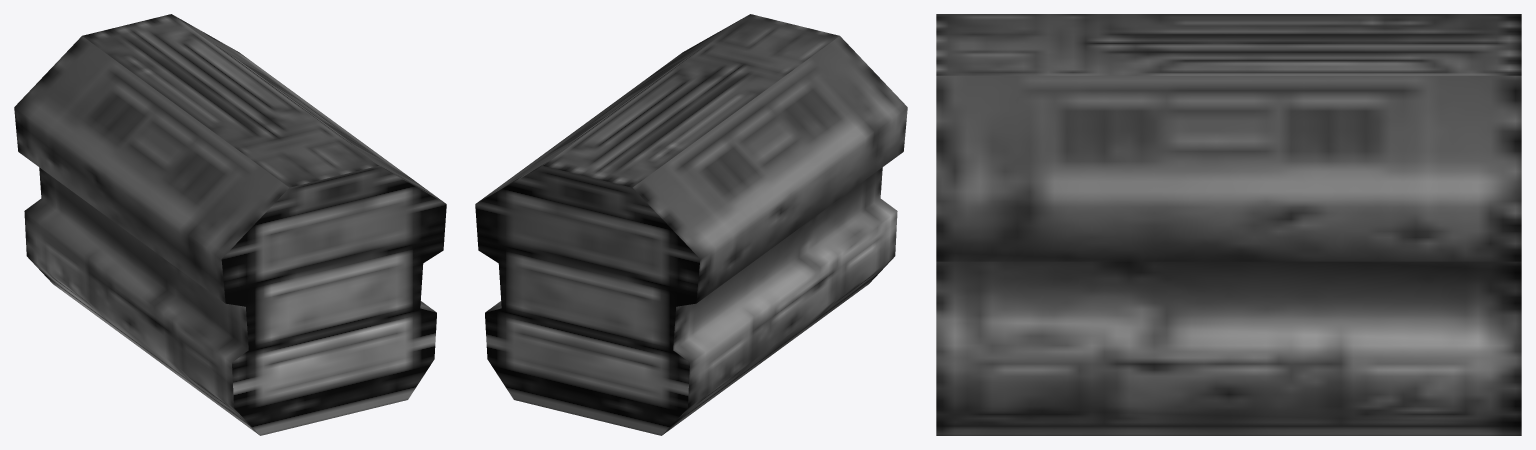
File: utl15a1.obj
3 renders of one model, left to right at view 1: azimuth 30°, elevation 25°; view 2: azimuth 150°, elevation 25°; view 3: azimuth 270°, elevation 25°, orthographic. The views are drawn at different scales.
Visible parts, largest first — view 1: frm-utl15a; view 2: frm-utl15a; view 3: frm-utl15a.
Part boxes in pixels (<box>): frm-utl15a: <box>14,14,446,435</box>; frm-utl15a: <box>475,14,907,435</box>; frm-utl15a: <box>936,14,1521,435</box>.
Bounding box in the file's own units: 7.05 × 7.22 × 11.25.
1 material, 1 textured.
